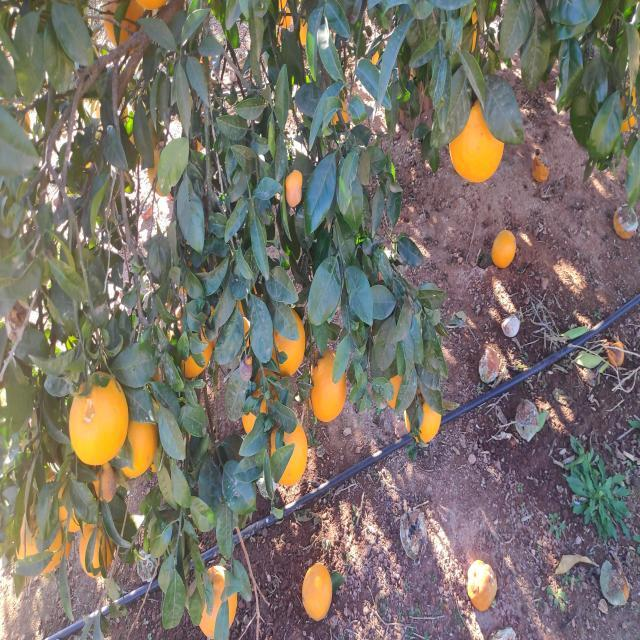Jeruk Sudah Matang: (68, 371, 129, 467), (449, 100, 504, 182), (195, 562, 238, 638), (308, 348, 347, 422), (271, 422, 308, 486), (124, 414, 158, 476), (100, 0, 144, 46), (78, 523, 115, 577), (301, 562, 332, 622), (178, 326, 211, 376), (404, 400, 442, 442), (492, 228, 517, 270), (382, 374, 407, 409)
